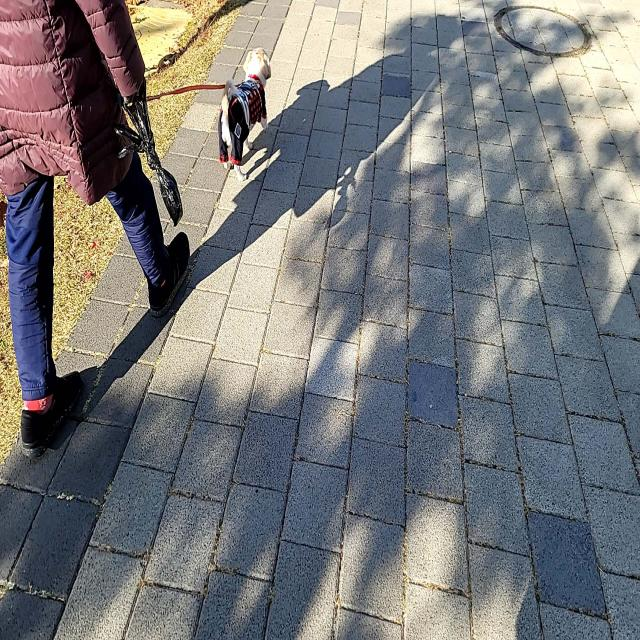Leashed_Dog: (77, 46, 272, 182)
